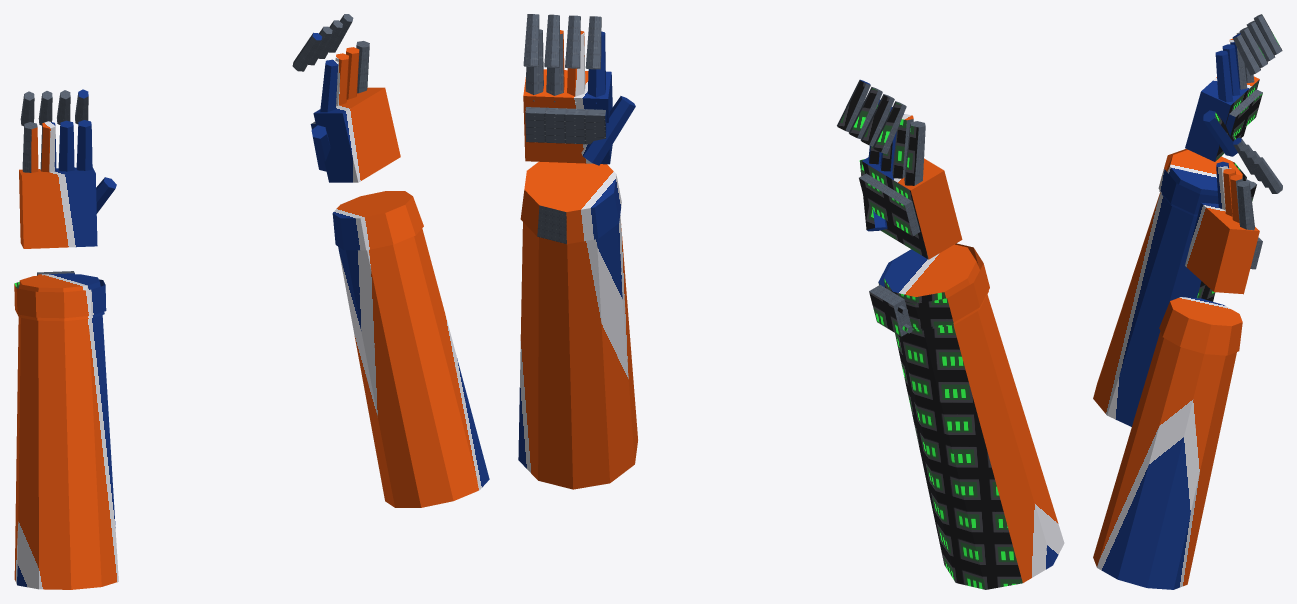
File: fp_arms.glb
3 renders of one model, left to right at view 1: azimuth 30°, elevation 25°; view 2: azimuth 150°, elevation 25°; view 3: azimuth 270°, elevation 25°, orthographic. The views are drawn at different scales.
Parts seen in each view (by area): view 1: fp_arms; view 2: fp_arms; view 3: fp_arms.
Boxes of the visible parts, x1,y1,x2,y2 form: fp_arms: (14, 14, 489, 589); fp_arms: (518, 14, 1064, 589); fp_arms: (1093, 14, 1282, 589).
Bounding box in the file's own units: 0.6485 × 0.5992 × 0.2496.
3 materials, 3 textured.
